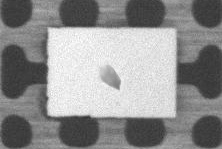DIE_INK: (99, 65, 121, 88)
